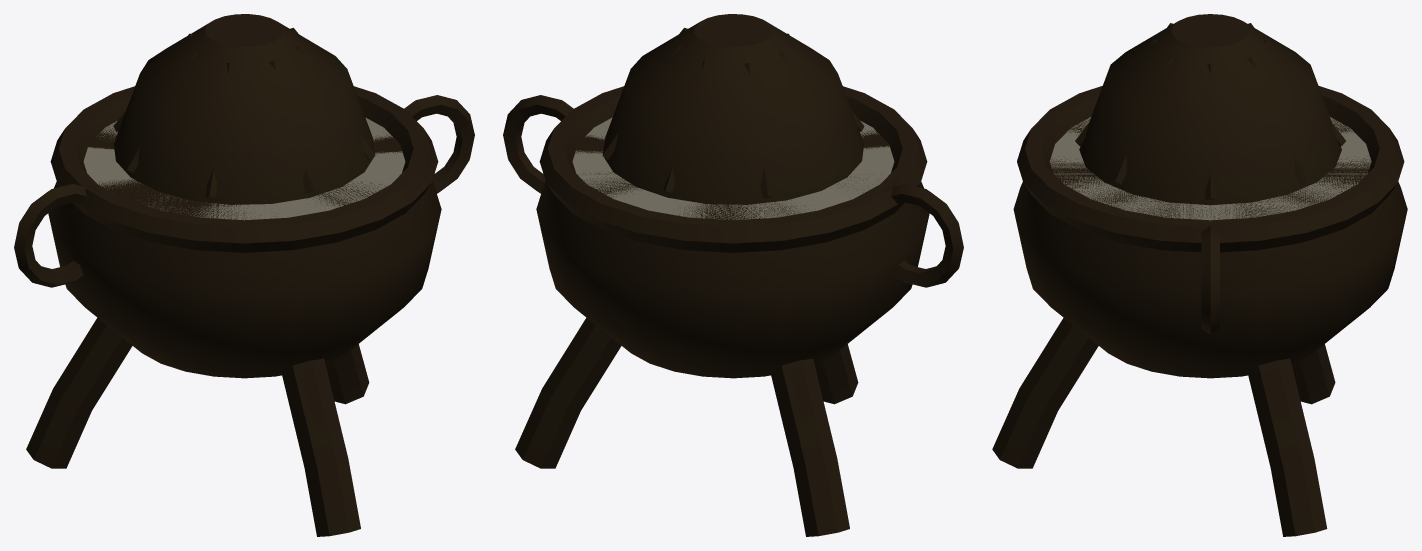
Rendered from hz-incense-burner.glb.
The picture shows the model from 3 angles, left to right: view 1: azimuth 30°, elevation 25°; view 2: azimuth 150°, elevation 25°; view 3: azimuth 270°, elevation 25°; orthographic projection.
Parts seen in each view (by area): view 1: body__metal, lid__metal, ash__plaster; view 2: body__metal, lid__metal, ash__plaster; view 3: body__metal, lid__metal, ash__plaster.
Part boxes in pixels (x1=…): body__metal: x1=14, y1=86, x2=474, y2=536; lid__metal: x1=113, y1=14, x2=375, y2=204; ash__plaster: x1=83, y1=117, x2=405, y2=220; body__metal: x1=503, y1=86, x2=963, y2=536; lid__metal: x1=602, y1=14, x2=864, y2=204; ash__plaster: x1=572, y1=117, x2=894, y2=219; body__metal: x1=992, y1=86, x2=1407, y2=536; lid__metal: x1=1075, y1=14, x2=1345, y2=205; ash__plaster: x1=1049, y1=117, x2=1371, y2=220.
Size of the model in its own units: 0.81 by 0.7317 by 0.6324.
